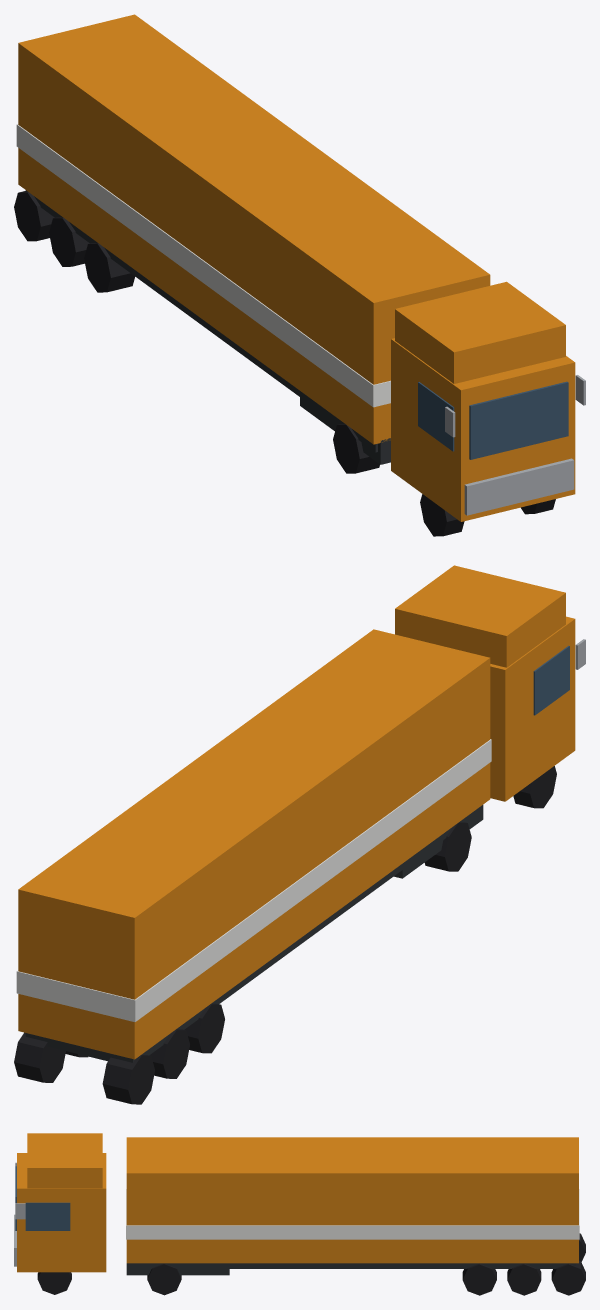
File: caminhao_3.glb
The picture shows the model from 3 angles, top to bottom: view 1: azimuth 30°, elevation 25°; view 2: azimuth 150°, elevation 25°; view 3: azimuth 270°, elevation 25°; orthographic projection. The views are drawn at different scales.
Visible parts, largest first — view 1: cor, br, pre, vi, aco, esc; view 2: cor, br, pre, esc, vi; view 3: cor, br, pre, esc, vi, aco.
Part boxes in pixels (left/top/right/bottom): cor: left=18, top=14, right=575, bottom=521; br: left=16, top=124, right=390, bottom=407; pre: left=14, top=191, right=555, bottom=536; vi: left=418, top=381, right=568, bottom=459; aco: left=445, top=375, right=585, bottom=515; esc: left=25, top=190, right=390, bottom=464; cor: left=18, top=565, right=575, bottom=1059; br: left=16, top=739, right=491, bottom=1021; pre: left=14, top=766, right=556, bottom=1104; esc: left=25, top=805, right=483, bottom=1062; vi: left=533, top=645, right=569, bottom=715; cor: left=17, top=1133, right=578, bottom=1272; br: left=126, top=1189, right=579, bottom=1239; pre: left=37, top=1233, right=585, bottom=1295; esc: left=126, top=1263, right=575, bottom=1275; vi: left=15, top=1166, right=70, bottom=1230; aco: left=14, top=1162, right=25, bottom=1266.
Bounding box in the file's own units: 2.85 × 4.1 × 16.69.
